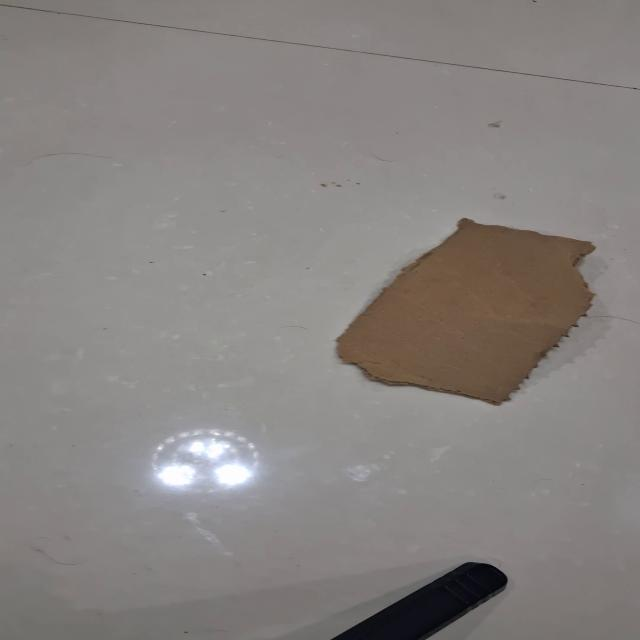paper: (333, 216, 597, 406)
